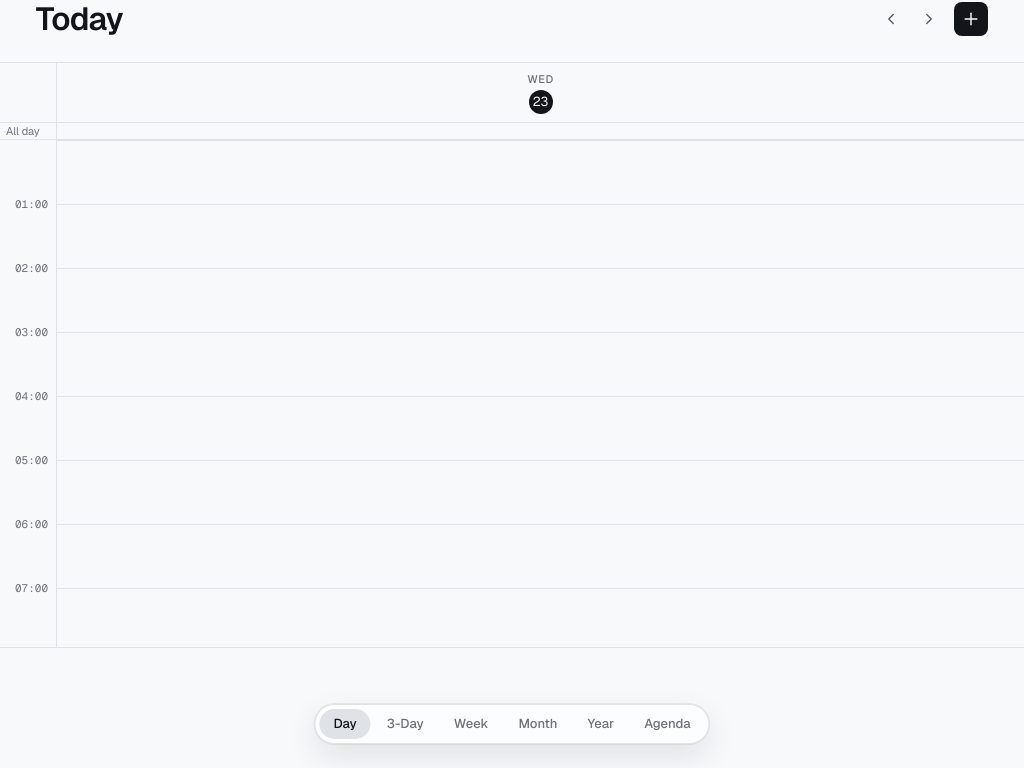
Scenario: CalendarBoard › the header's New task button opens a create dialog prefilled with the current anchor date
What coordinates should you click on to do the following:
click the button named "New task"
I would click on:
 (971, 19)
Its box is [954, 2, 988, 36].
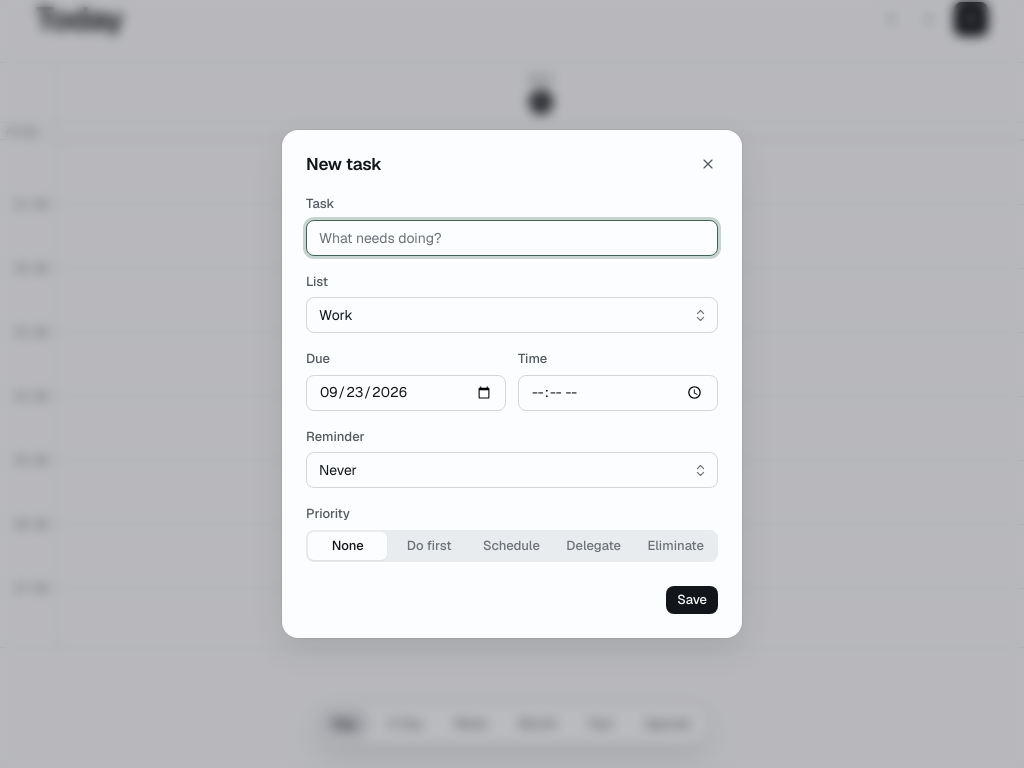
Expected: the dialog "New task" is shown, [282, 130, 742, 638]
